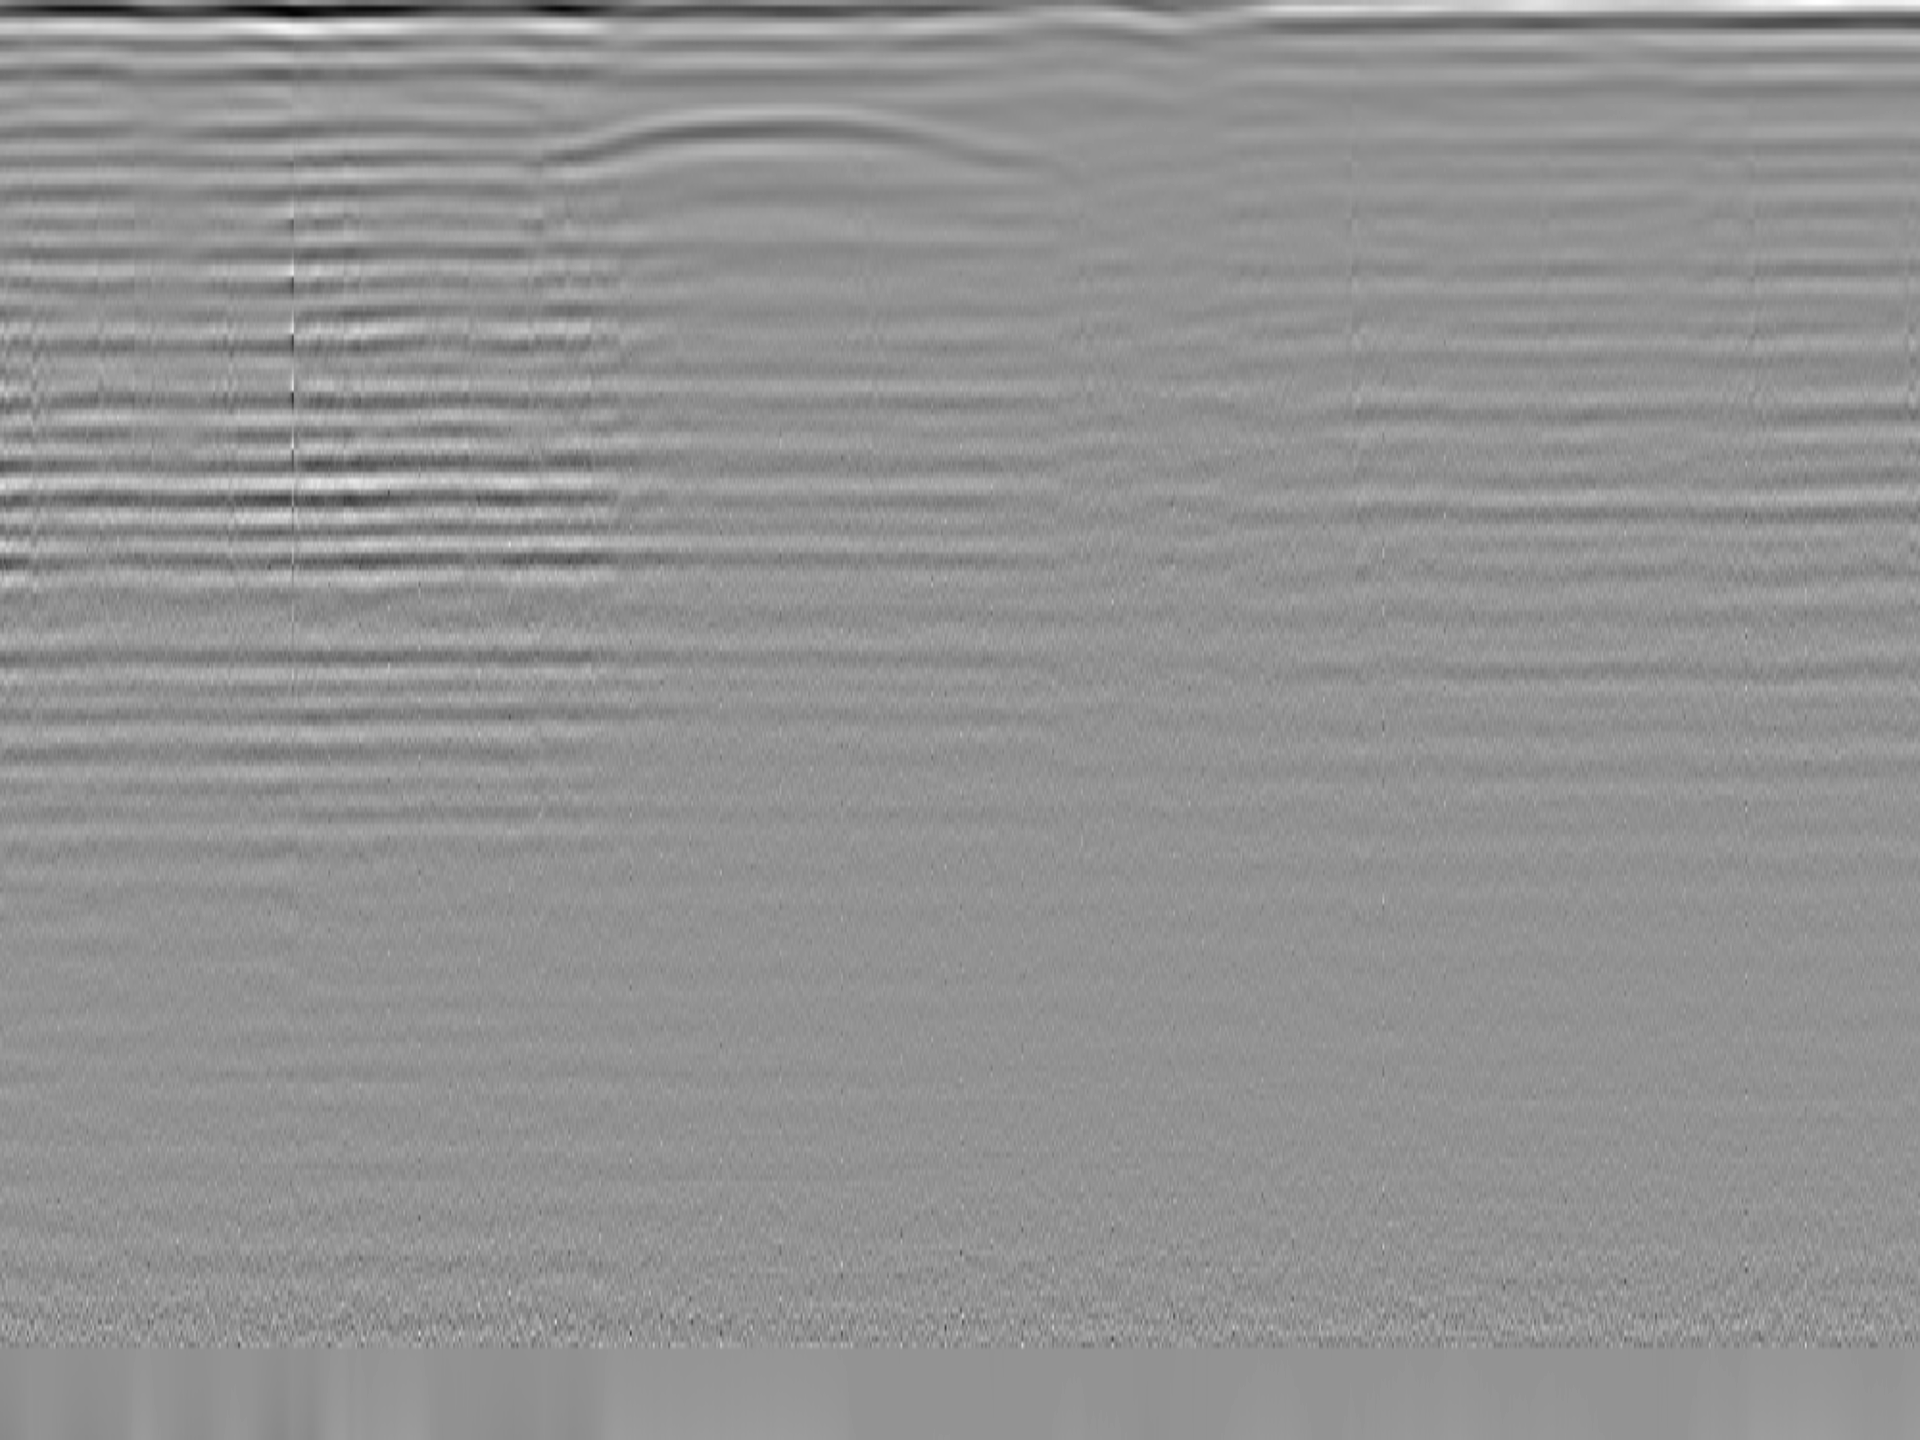Tunnel: (541, 106, 1076, 169)
